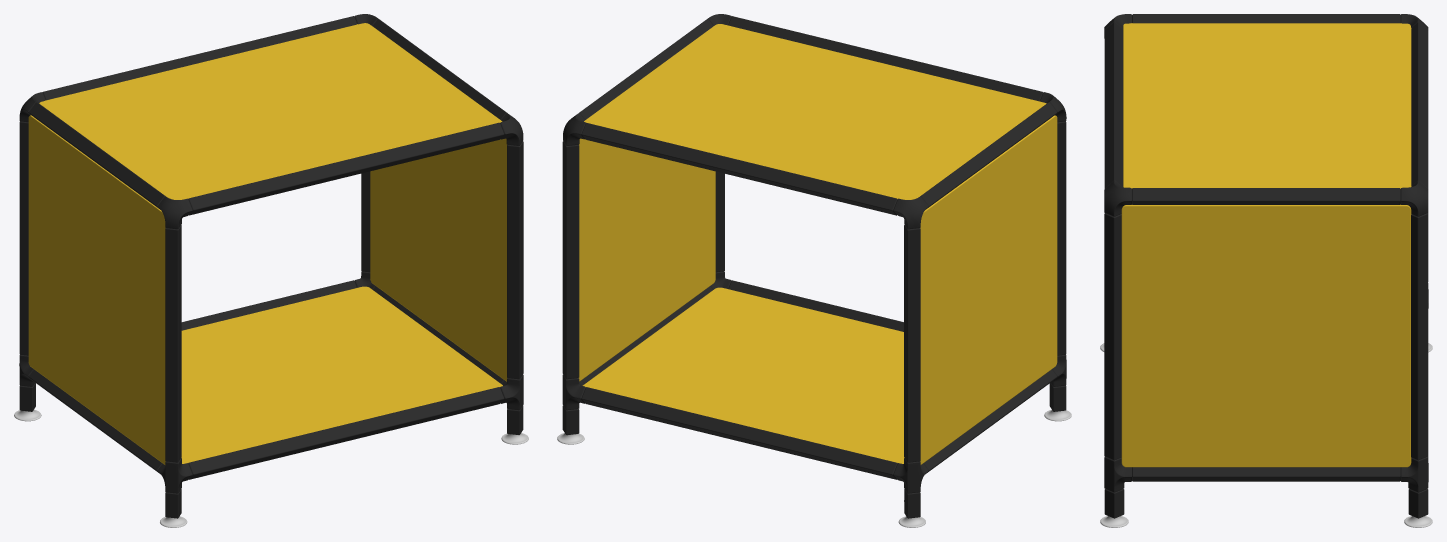
The picture shows the model from 3 angles, left to right: view 1: azimuth 30°, elevation 25°; view 2: azimuth 150°, elevation 25°; view 3: azimuth 270°, elevation 25°; orthographic projection. The views are drawn at different scales.
Parts seen in each view (by area): view 1: 523x374x374; view 2: 523x374x374; view 3: 523x374x374.
Boxes of the visible parts, x1=… form: 523x374x374: x1=14, y1=14, x2=528, y2=527; 523x374x374: x1=557, y1=14, x2=1071, y2=527; 523x374x374: x1=1100, y1=14, x2=1432, y2=527.
Bounding box in the file's own units: 0.6129 × 0.5133 × 0.4632.
